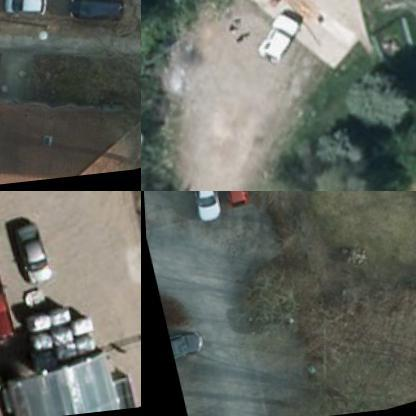car: (245, 9, 309, 74), (7, 220, 52, 288), (64, 0, 125, 33), (181, 191, 225, 227), (164, 322, 203, 358), (0, 0, 49, 28), (215, 191, 250, 210)
pickup: (0, 262, 13, 352)
